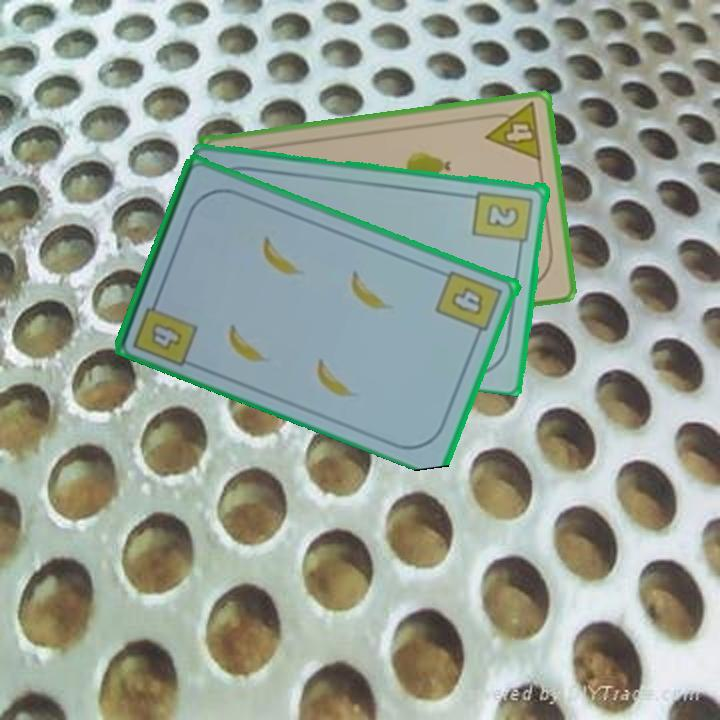2b: (470, 187, 536, 254)
4b: (129, 290, 201, 369), (433, 266, 506, 343)
4p: (480, 99, 545, 164)
